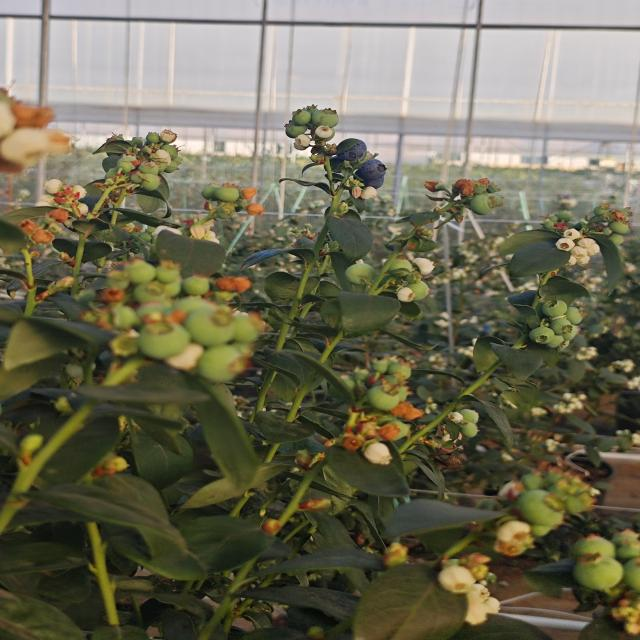ripe: (316, 154, 357, 184), (333, 135, 375, 162), (352, 160, 389, 190)
